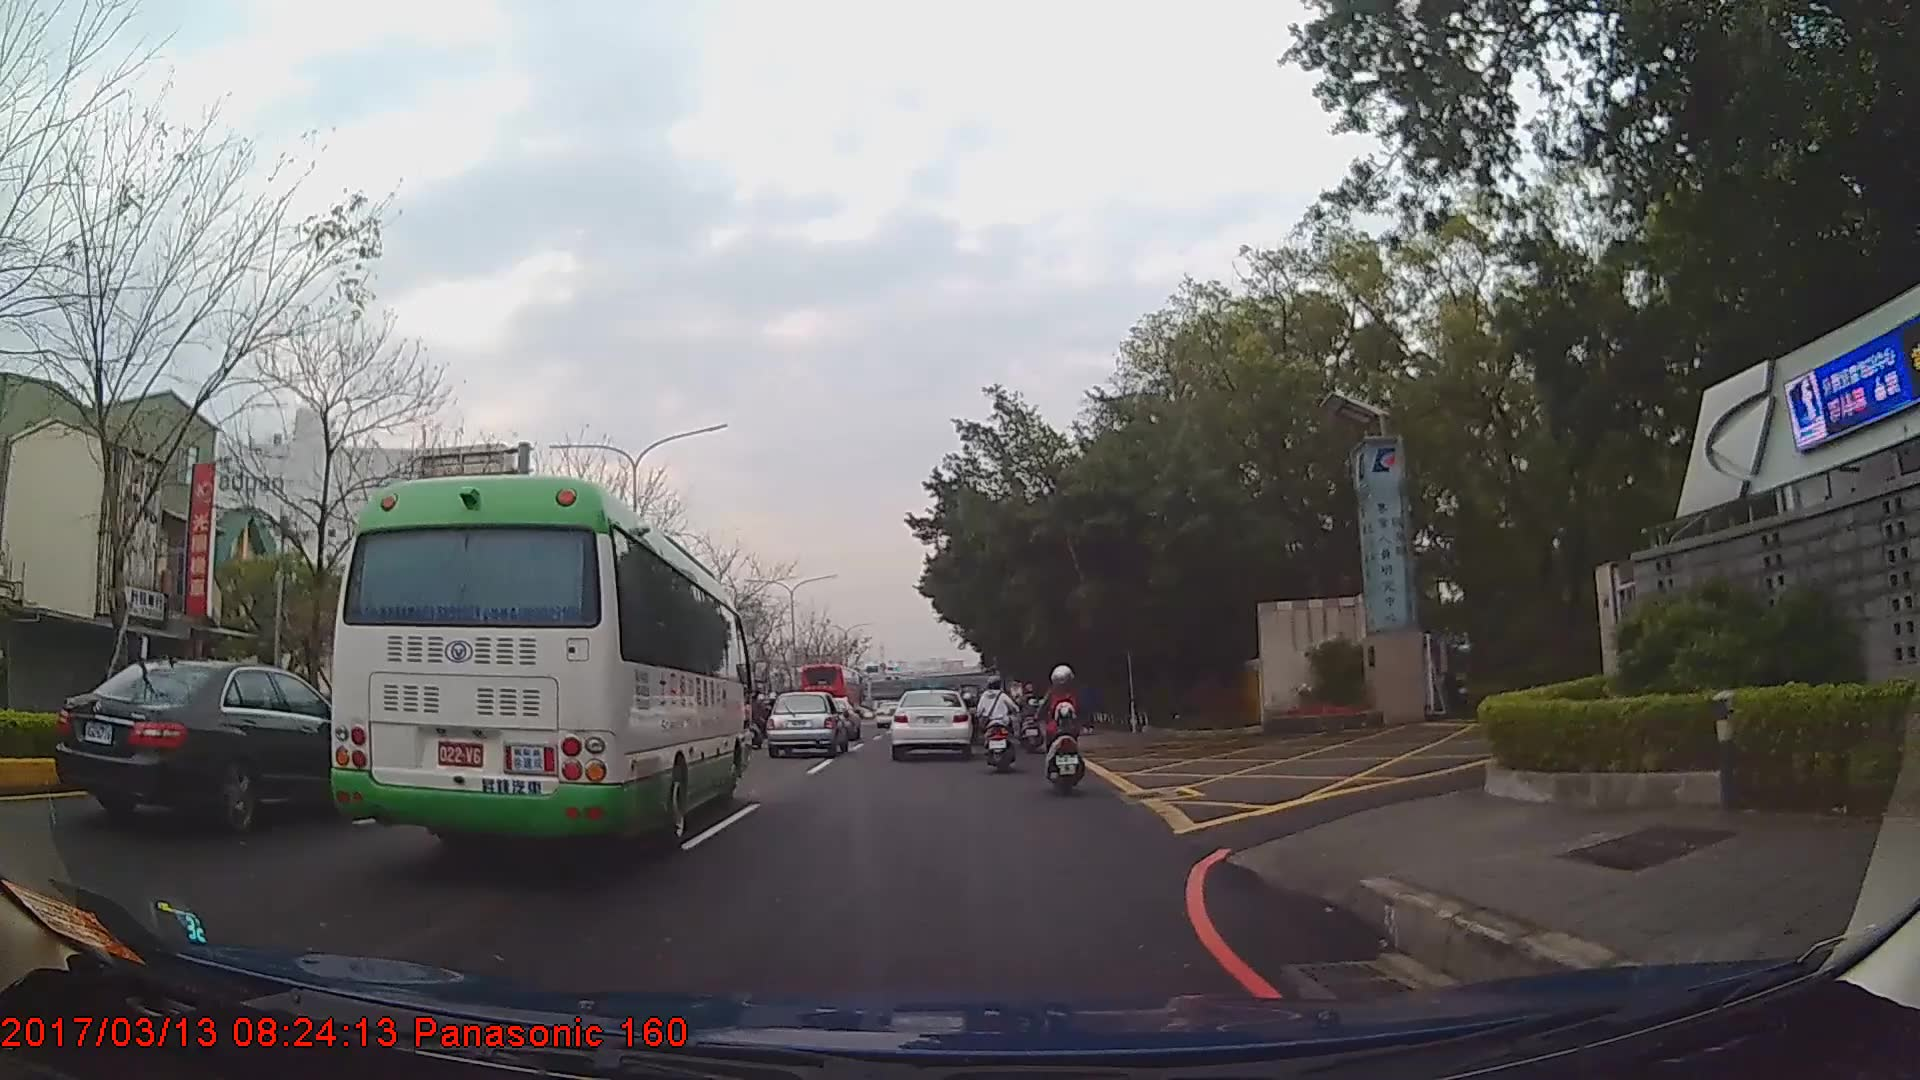pedestrian: (1078, 679, 1101, 736)
rider: (1042, 665, 1086, 801), (974, 676, 1018, 773), (1018, 679, 1044, 751), (744, 689, 772, 742)
vehicle: (319, 467, 750, 855), (53, 654, 394, 831), (888, 686, 972, 759), (764, 689, 850, 756), (796, 658, 861, 723)
